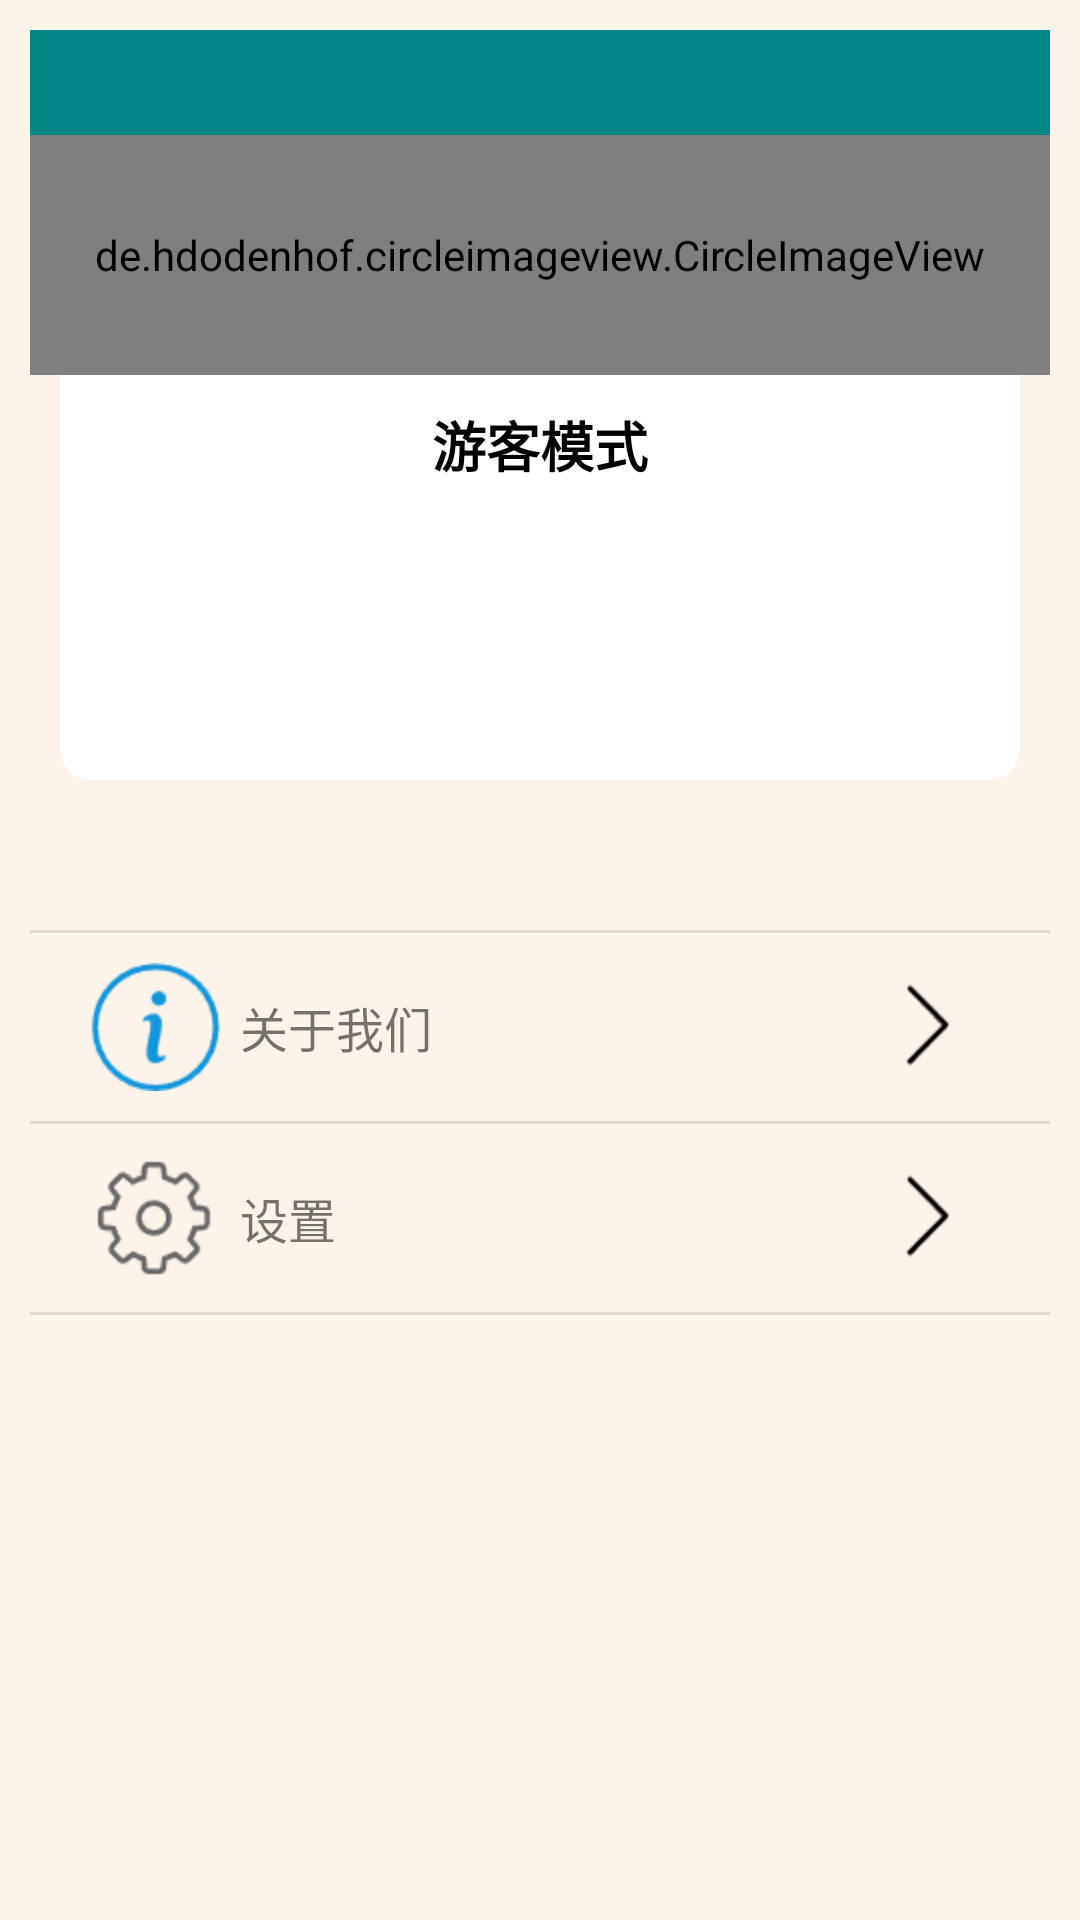

Icons on this 1080px×1920px Android screen, each with its box as (x1, y1, x2, y2):
about: (91, 963, 220, 1091)
right arrow: (906, 985, 949, 1065), (906, 1176, 949, 1256)
setting: (97, 1161, 211, 1275)
